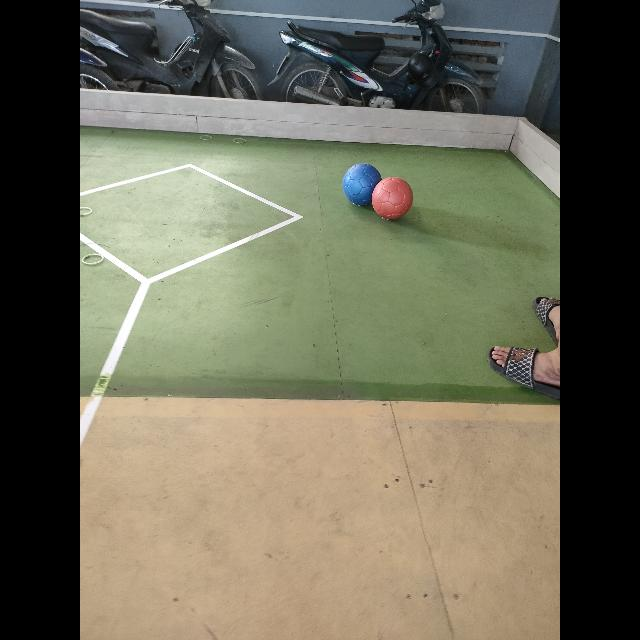B: (342, 162, 381, 205)
R: (371, 178, 414, 220)
